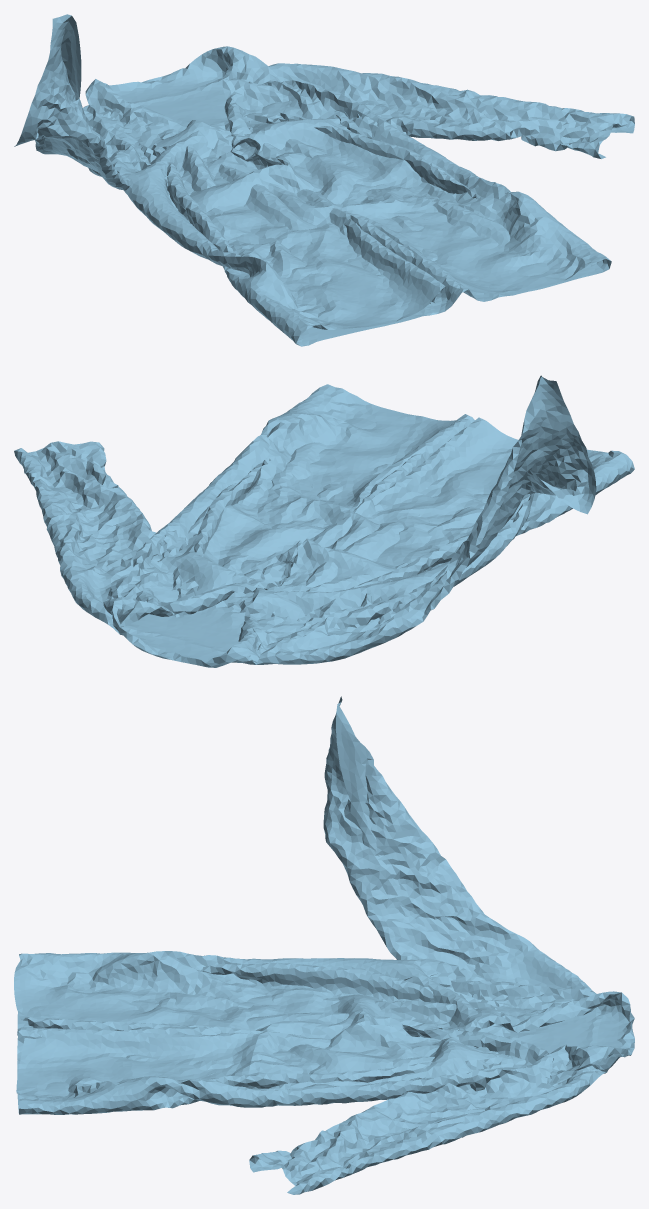
Rendered from frame_06.glb.
The picture shows the model from 3 angles, top to bottom: view 1: azimuth 30°, elevation 25°; view 2: azimuth 150°, elevation 25°; view 3: azimuth 270°, elevation 25°; orthographic projection.
Parts seen in each view (by area): view 1: frame_06.obj; view 2: frame_06.obj; view 3: frame_06.obj.
Part boxes in pixels (x1=…): frame_06.obj: x1=14, y1=14, x2=634, y2=346; frame_06.obj: x1=14, y1=375, x2=634, y2=667; frame_06.obj: x1=14, y1=696, x2=634, y2=1194.
Size of the model in its own units: 1.86 by 0.6916 by 1.68.
